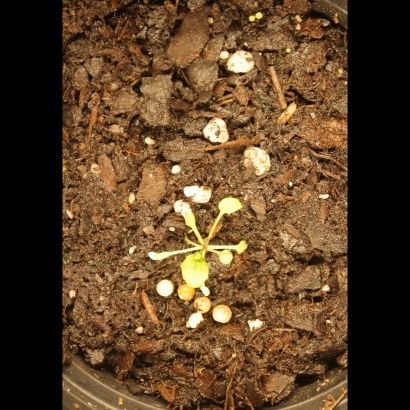leaf: (174, 251, 213, 293), (212, 193, 256, 226), (178, 203, 202, 232), (214, 251, 237, 274), (232, 234, 255, 257)
